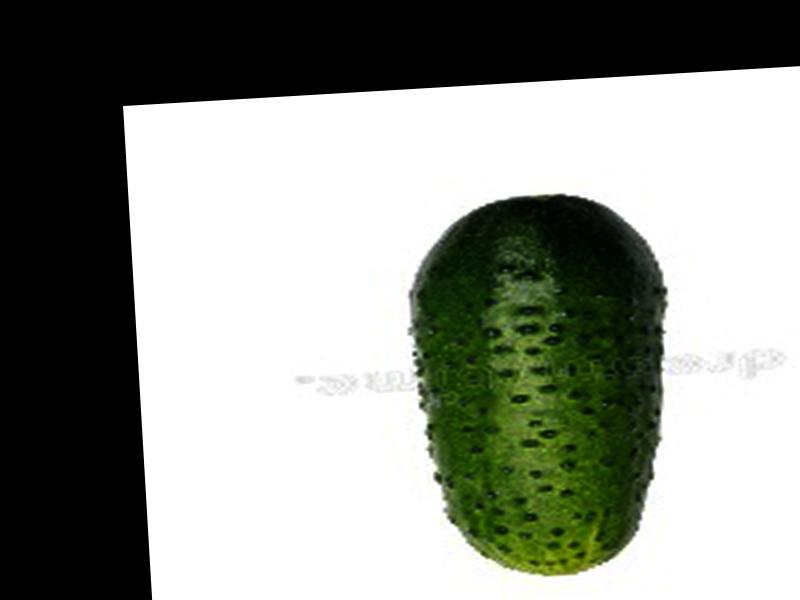Cucumber: (400, 187, 682, 585)
